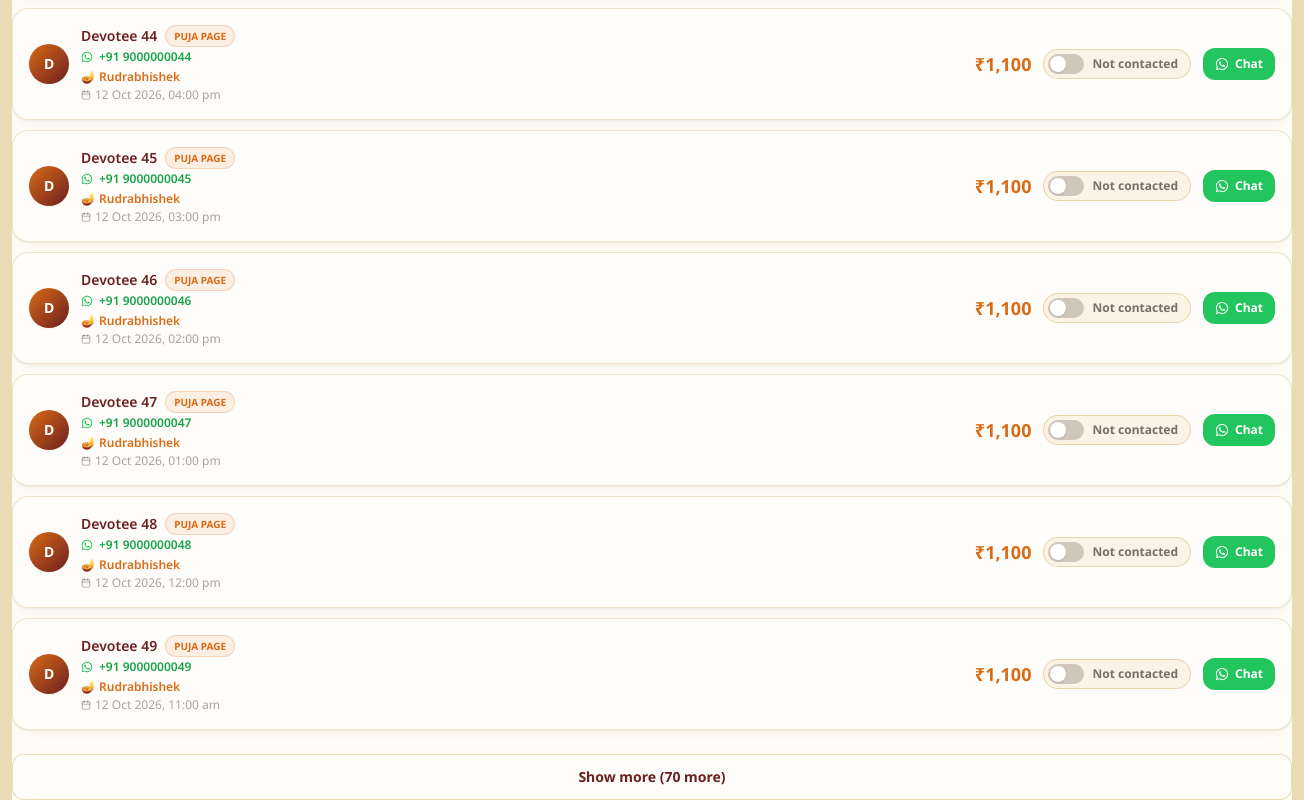
Test: LeadManager › draws 50 leads, then 50 more on Show more
(page scrolled)
Click the button "Show more (70 more)" at {"x": 652, "y": 777}, box top-left (12, 754), bottom-right (1292, 799)
(page scrolled)
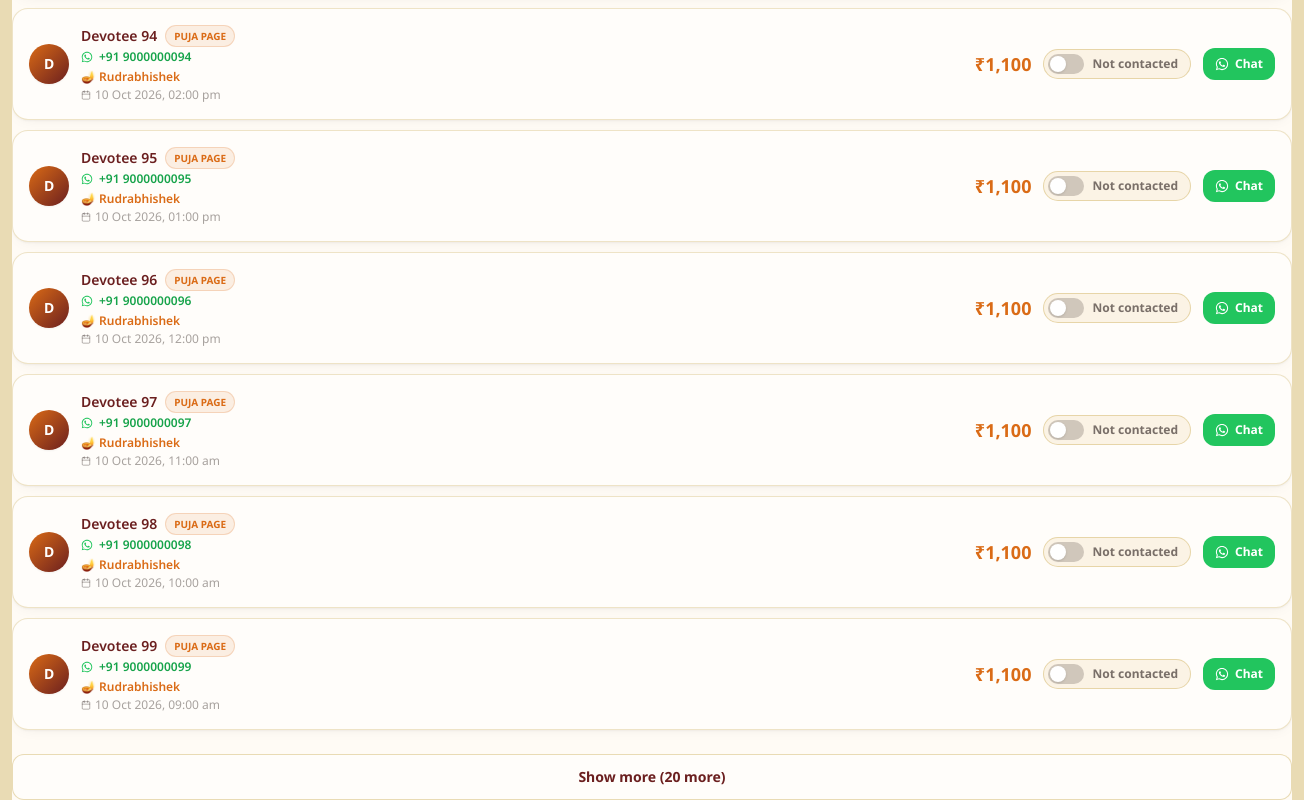
Now the heading "Devotee 99" is shown, box top-left (81, 636), bottom-right (157, 656)
